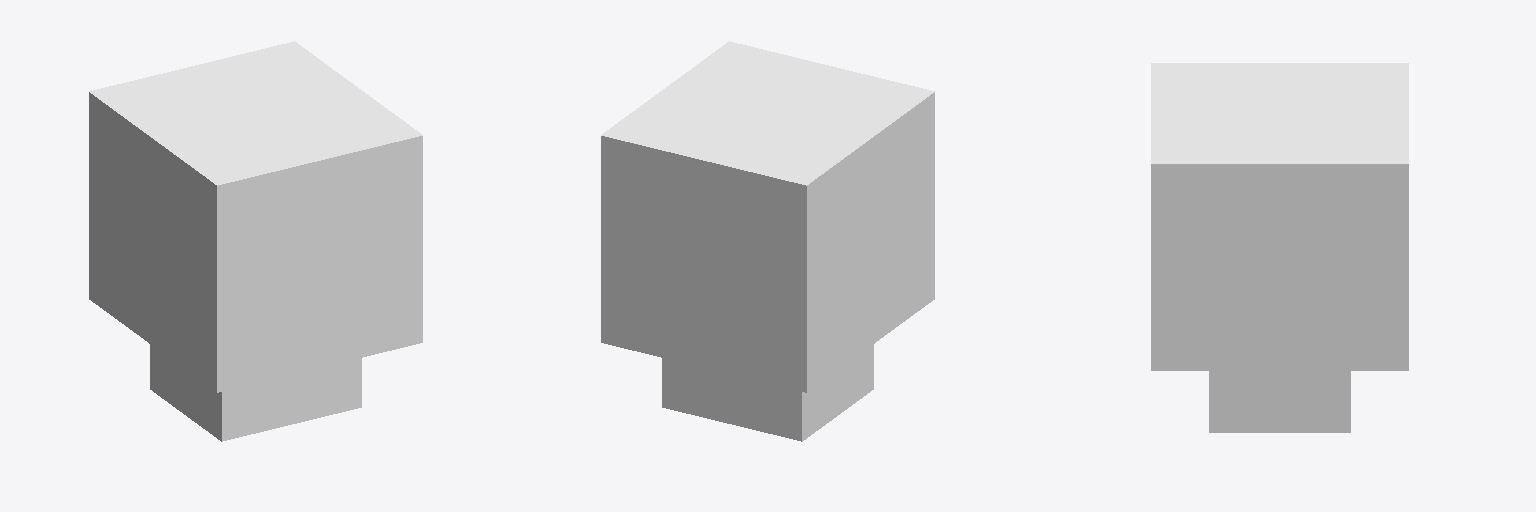
The model's file is Arbol4.obj.
3 views of the same model, side by side, from view 1: azimuth 30°, elevation 25°; view 2: azimuth 150°, elevation 25°; view 3: azimuth 270°, elevation 25° (orthographic).
Size of the model in its own units: 25 by 33 by 27.